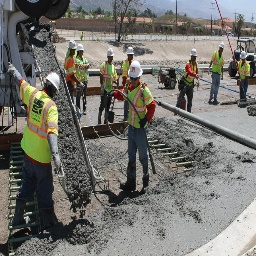helmet: (42, 70, 62, 96), (127, 60, 144, 79), (67, 37, 77, 52), (125, 45, 135, 56), (105, 49, 115, 59), (76, 43, 85, 54), (189, 47, 198, 58), (238, 50, 247, 61), (217, 41, 226, 51)
person: (11, 62, 65, 236), (120, 59, 154, 193), (98, 45, 120, 121), (178, 46, 201, 112), (207, 42, 227, 105), (75, 43, 91, 116), (63, 39, 78, 101), (235, 50, 253, 100)
vest: (18, 91, 60, 166), (120, 84, 151, 133), (100, 62, 116, 97), (182, 60, 199, 90), (210, 48, 223, 76), (76, 56, 89, 84), (237, 59, 251, 85), (123, 58, 132, 79)
